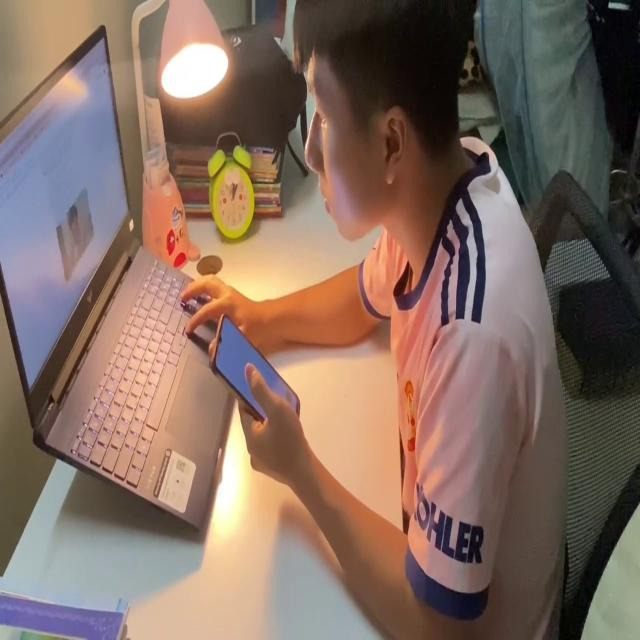laptop: (0, 21, 240, 538)
phone: (206, 307, 303, 434)
student: (184, 0, 571, 640)
